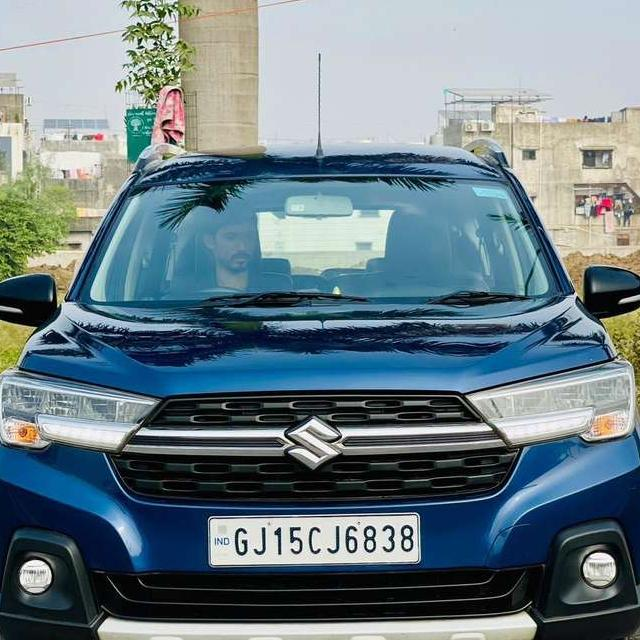Indian_Number_Plate: (209, 513, 425, 565)
